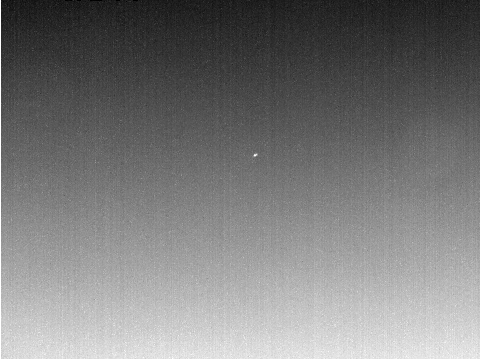dim target: (252, 152, 258, 158)
